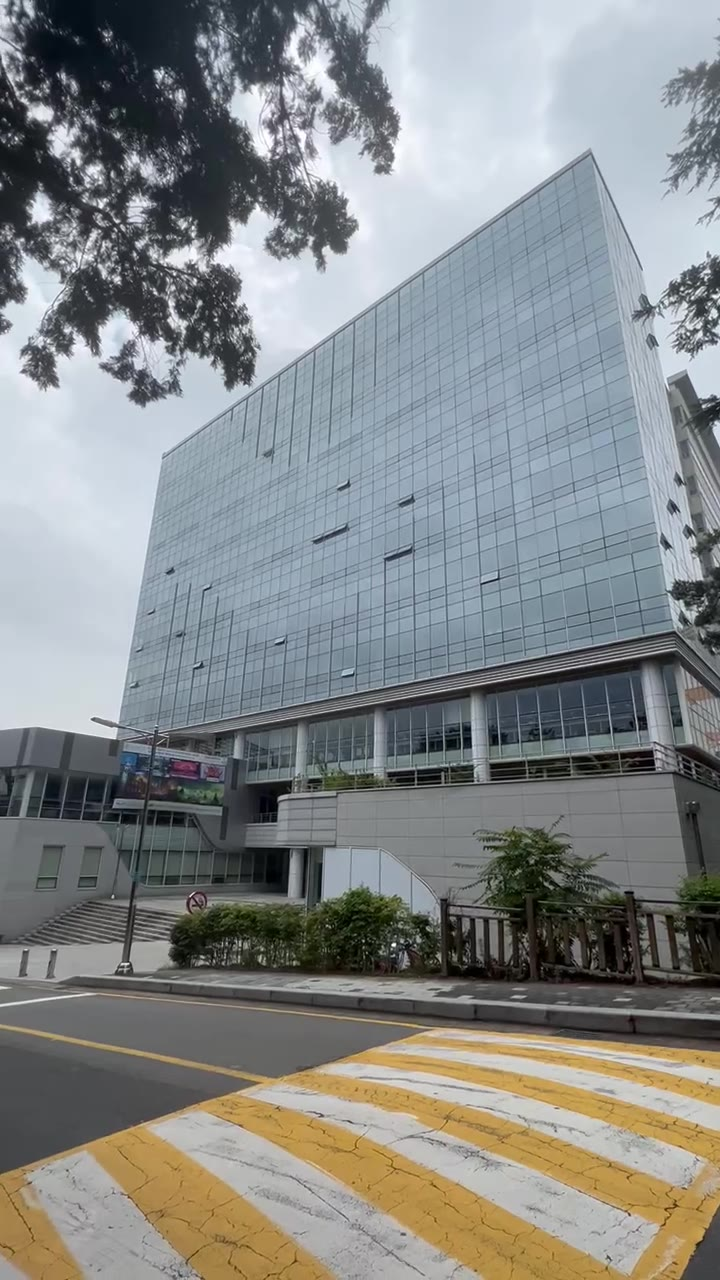low: (160, 278, 698, 758)
